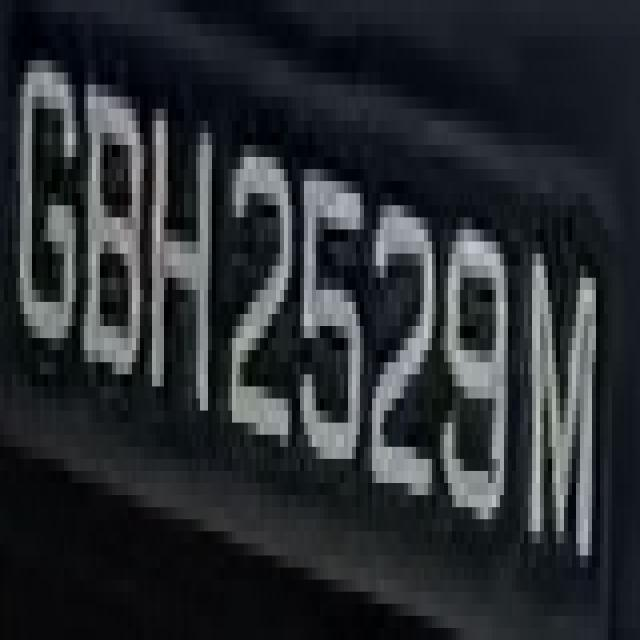2: (364, 133, 444, 543), (220, 109, 292, 495)
5: (280, 133, 372, 531)
9: (432, 157, 512, 543)
B: (88, 60, 144, 435)
G: (12, 36, 84, 362)
H: (144, 109, 224, 483)
M: (524, 217, 612, 592)
